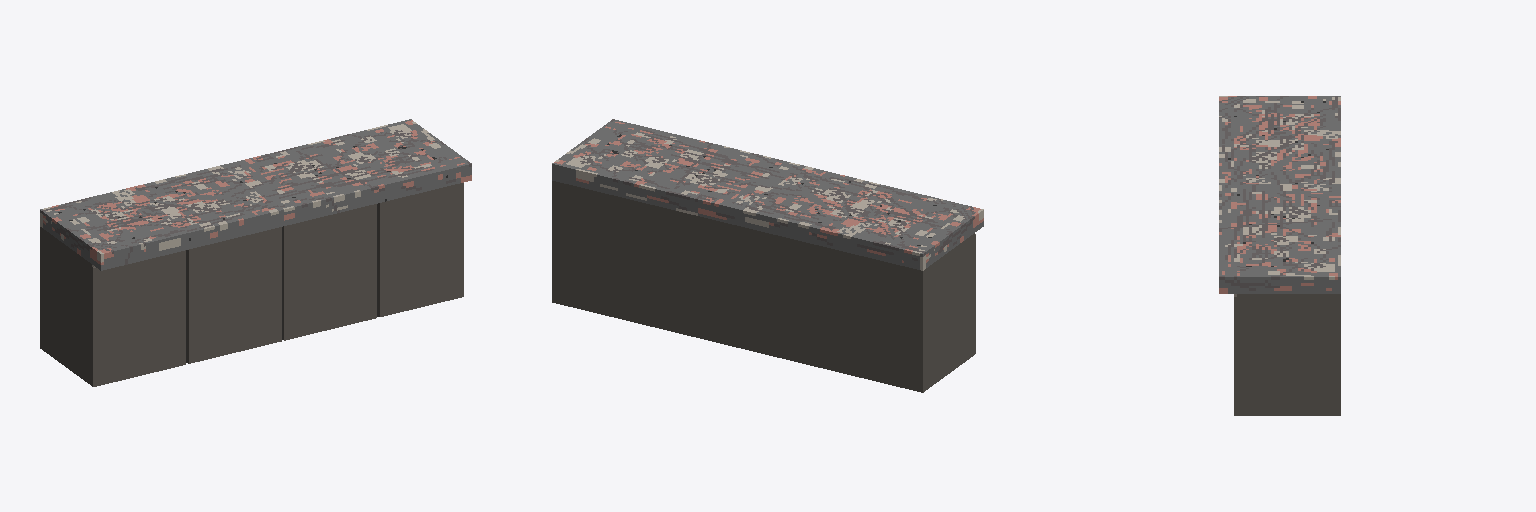
3 views of the same model, side by side, from view 1: azimuth 30°, elevation 25°; view 2: azimuth 150°, elevation 25°; view 3: azimuth 270°, elevation 25° (orthographic).
Visible parts, largest first — view 1: object 1; view 2: object 1; view 3: object 1.
Part boxes in pixels (left/top/right/bottom): object 1: left=40, top=119, right=471, bottom=386; object 1: left=552, top=119, right=983, bottom=392; object 1: left=1219, top=96, right=1340, bottom=415.
Size of the model in its own units: 14 by 5 by 4.
Materials: 1 (1 with a texture image).